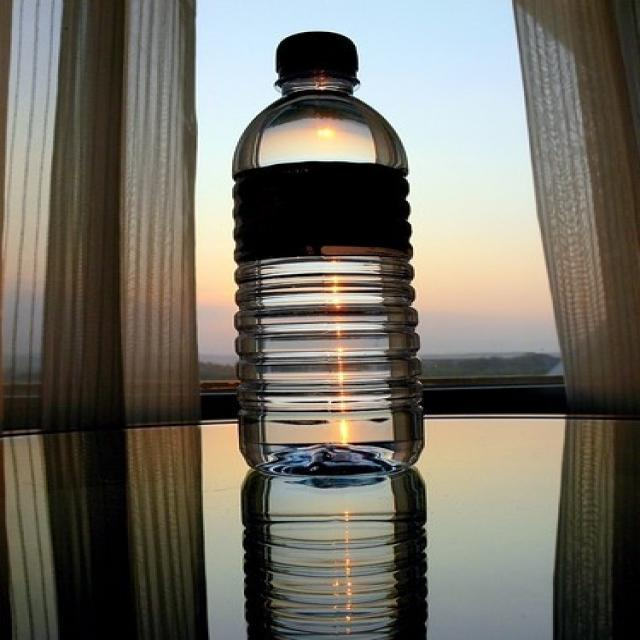plastic_bottle: (231, 30, 426, 489)
